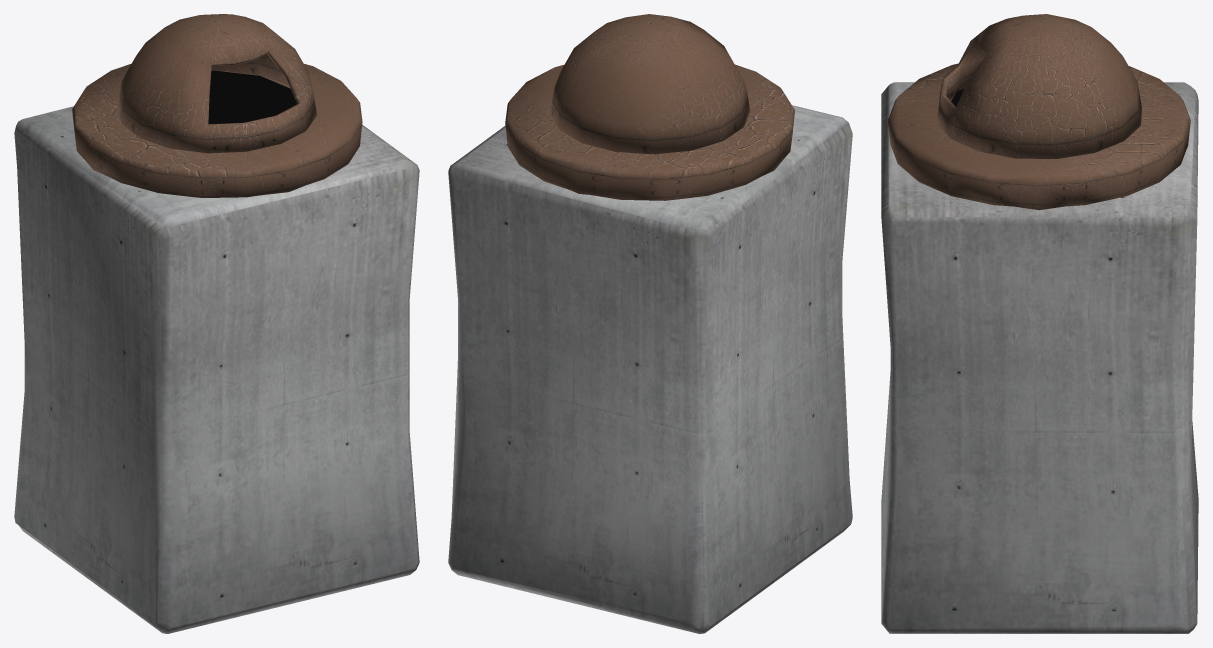
File: outdoor_cement_trashcan_square_2.fbx
3 views of the same model, side by side, from view 1: azimuth 30°, elevation 25°; view 2: azimuth 150°, elevation 25°; view 3: azimuth 270°, elevation 25° (orthographic). The views are drawn at different scales.
Parts seen in each view (by area): view 1: canCement_square_B, canShell, canRim, Cylinder01; view 2: canCement_square_B, canShell, canRim; view 3: canCement_square_B, canShell, canRim.
Boxes of the visible parts, box(x1,y1,x2,y2) form: canCement_square_B: box(14, 106, 419, 633); canShell: box(117, 14, 316, 153); canRim: box(72, 63, 362, 197); Cylinder01: box(208, 70, 297, 124); canCement_square_B: box(448, 105, 852, 633); canShell: box(550, 14, 750, 154); canRim: box(505, 64, 794, 200); canCement_square_B: box(881, 82, 1198, 633); canShell: box(936, 14, 1141, 158); canRim: box(888, 63, 1190, 210).
Size of the model in its own units: 0.6072 by 1.17 by 0.6072.
